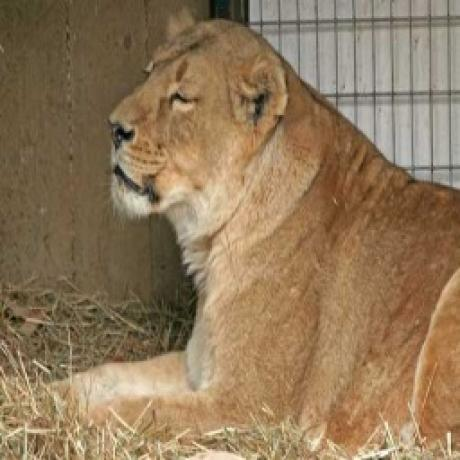Lion: (80, 1, 460, 460)
